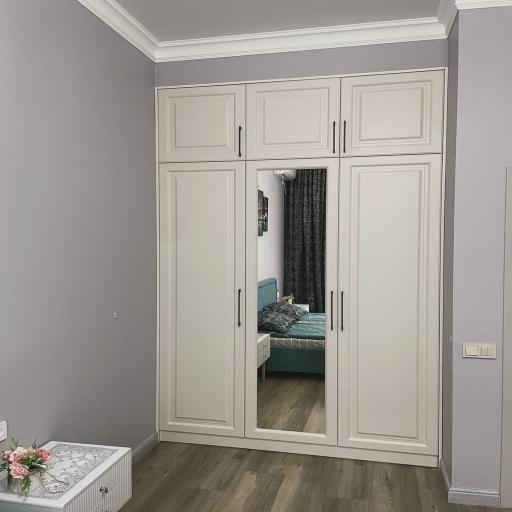car: (158, 70, 444, 466)
person: (266, 314, 325, 373)
